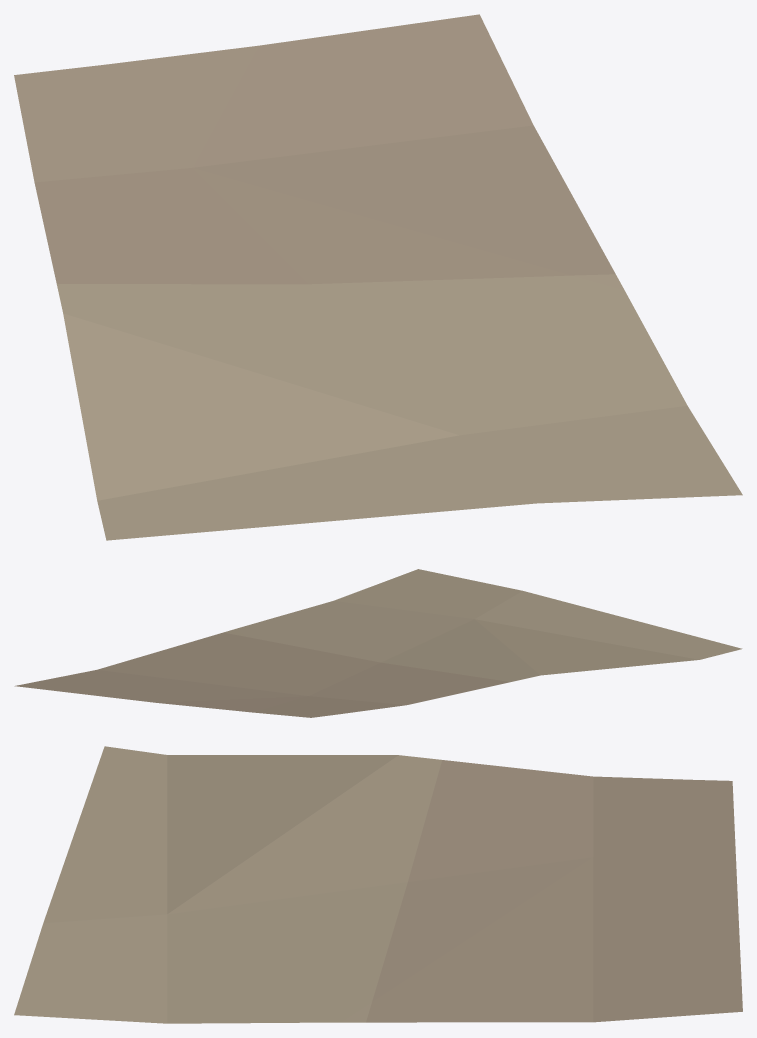
Rendered from farm_-32_-24_soil.glb.
3 views of the same model, one above another, from view 1: azimuth 30°, elevation 25°; view 2: azimuth 150°, elevation 25°; view 3: azimuth 270°, elevation 25° (orthographic). The views are drawn at different scales.
Parts seen in each view (by area): view 1: geometry_0; view 2: geometry_0; view 3: geometry_0.
Part boxes in pixels (left/top/right/bottom): geometry_0: left=14, top=14, right=742, bottom=540; geometry_0: left=14, top=569, right=742, bottom=717; geometry_0: left=14, top=746, right=742, bottom=1023.
Bounding box in the file's own units: 134 × 26.1 × 137.
